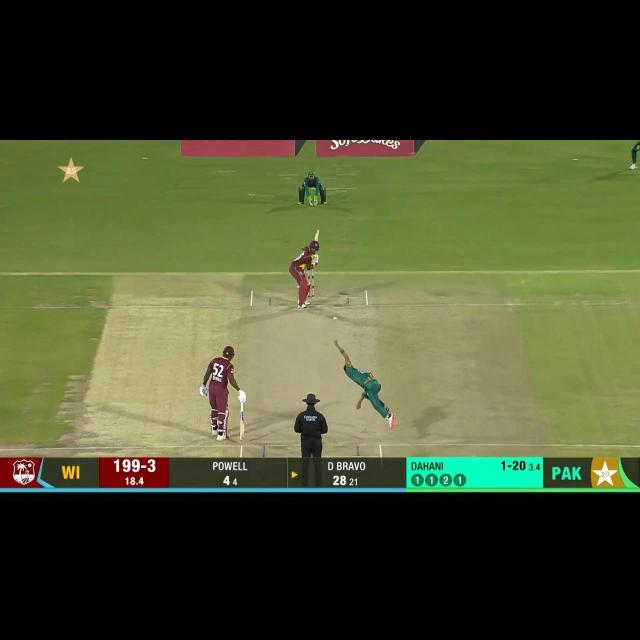bat: (239, 412, 246, 442), (312, 228, 321, 242)
toe: (313, 228, 321, 237), (239, 437, 245, 442)
